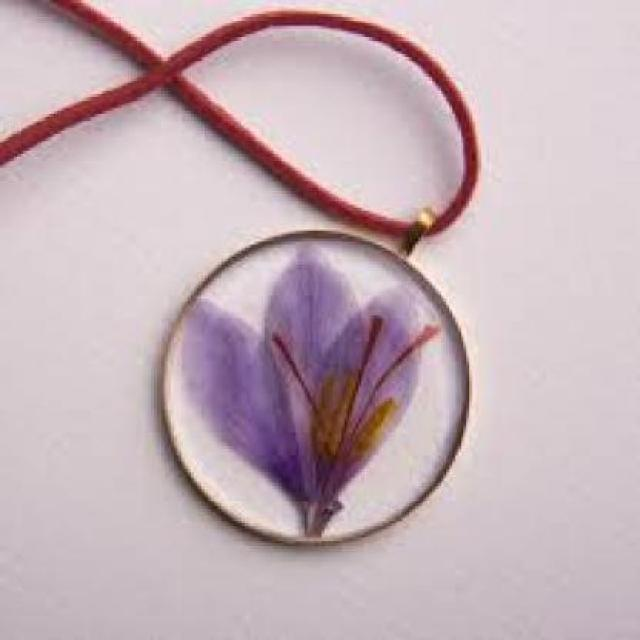saffron open: (199, 246, 439, 536)
